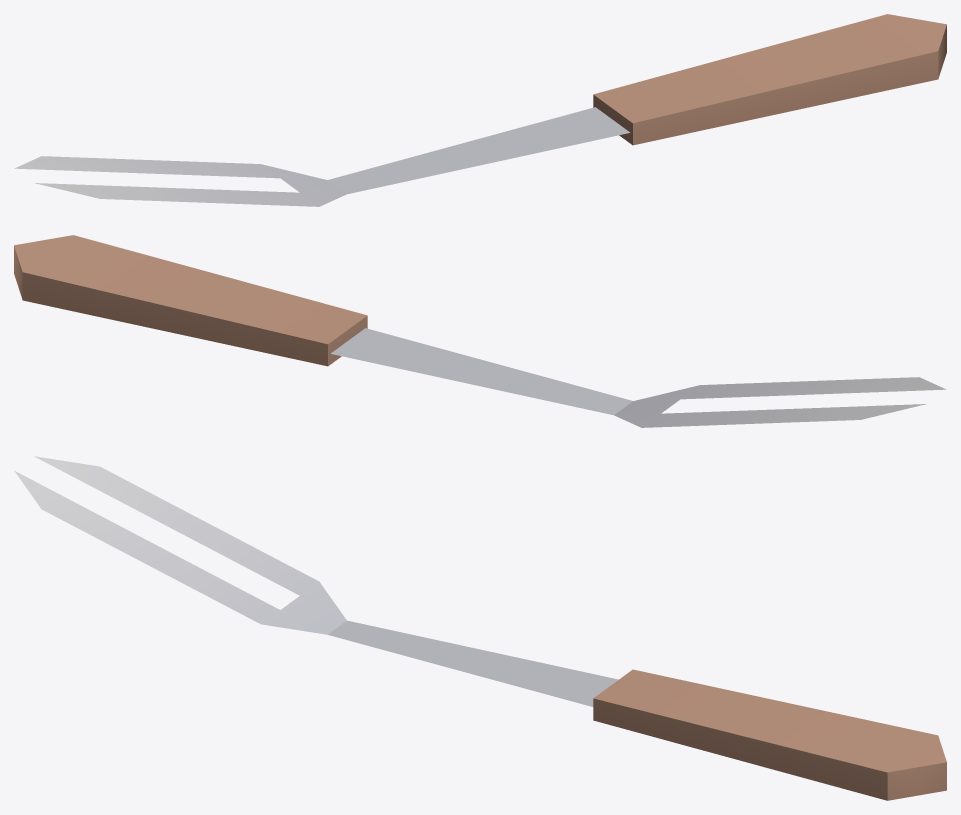
File: cooking-fork.glb
3 renders of one model, top to bottom at view 1: azimuth 30°, elevation 25°; view 2: azimuth 150°, elevation 25°; view 3: azimuth 330°, elevation 25°, orthographic.
Visible parts, largest first — view 1: cooking-fork; view 2: cooking-fork; view 3: cooking-fork.
Part boxes in pixels (<box>): cooking-fork: <box>14,14,946,206</box>; cooking-fork: <box>14,235,946,427</box>; cooking-fork: <box>14,456,946,800</box>.
Size of the model in its own units: 0.6827 by 0.0721 by 0.0749.
